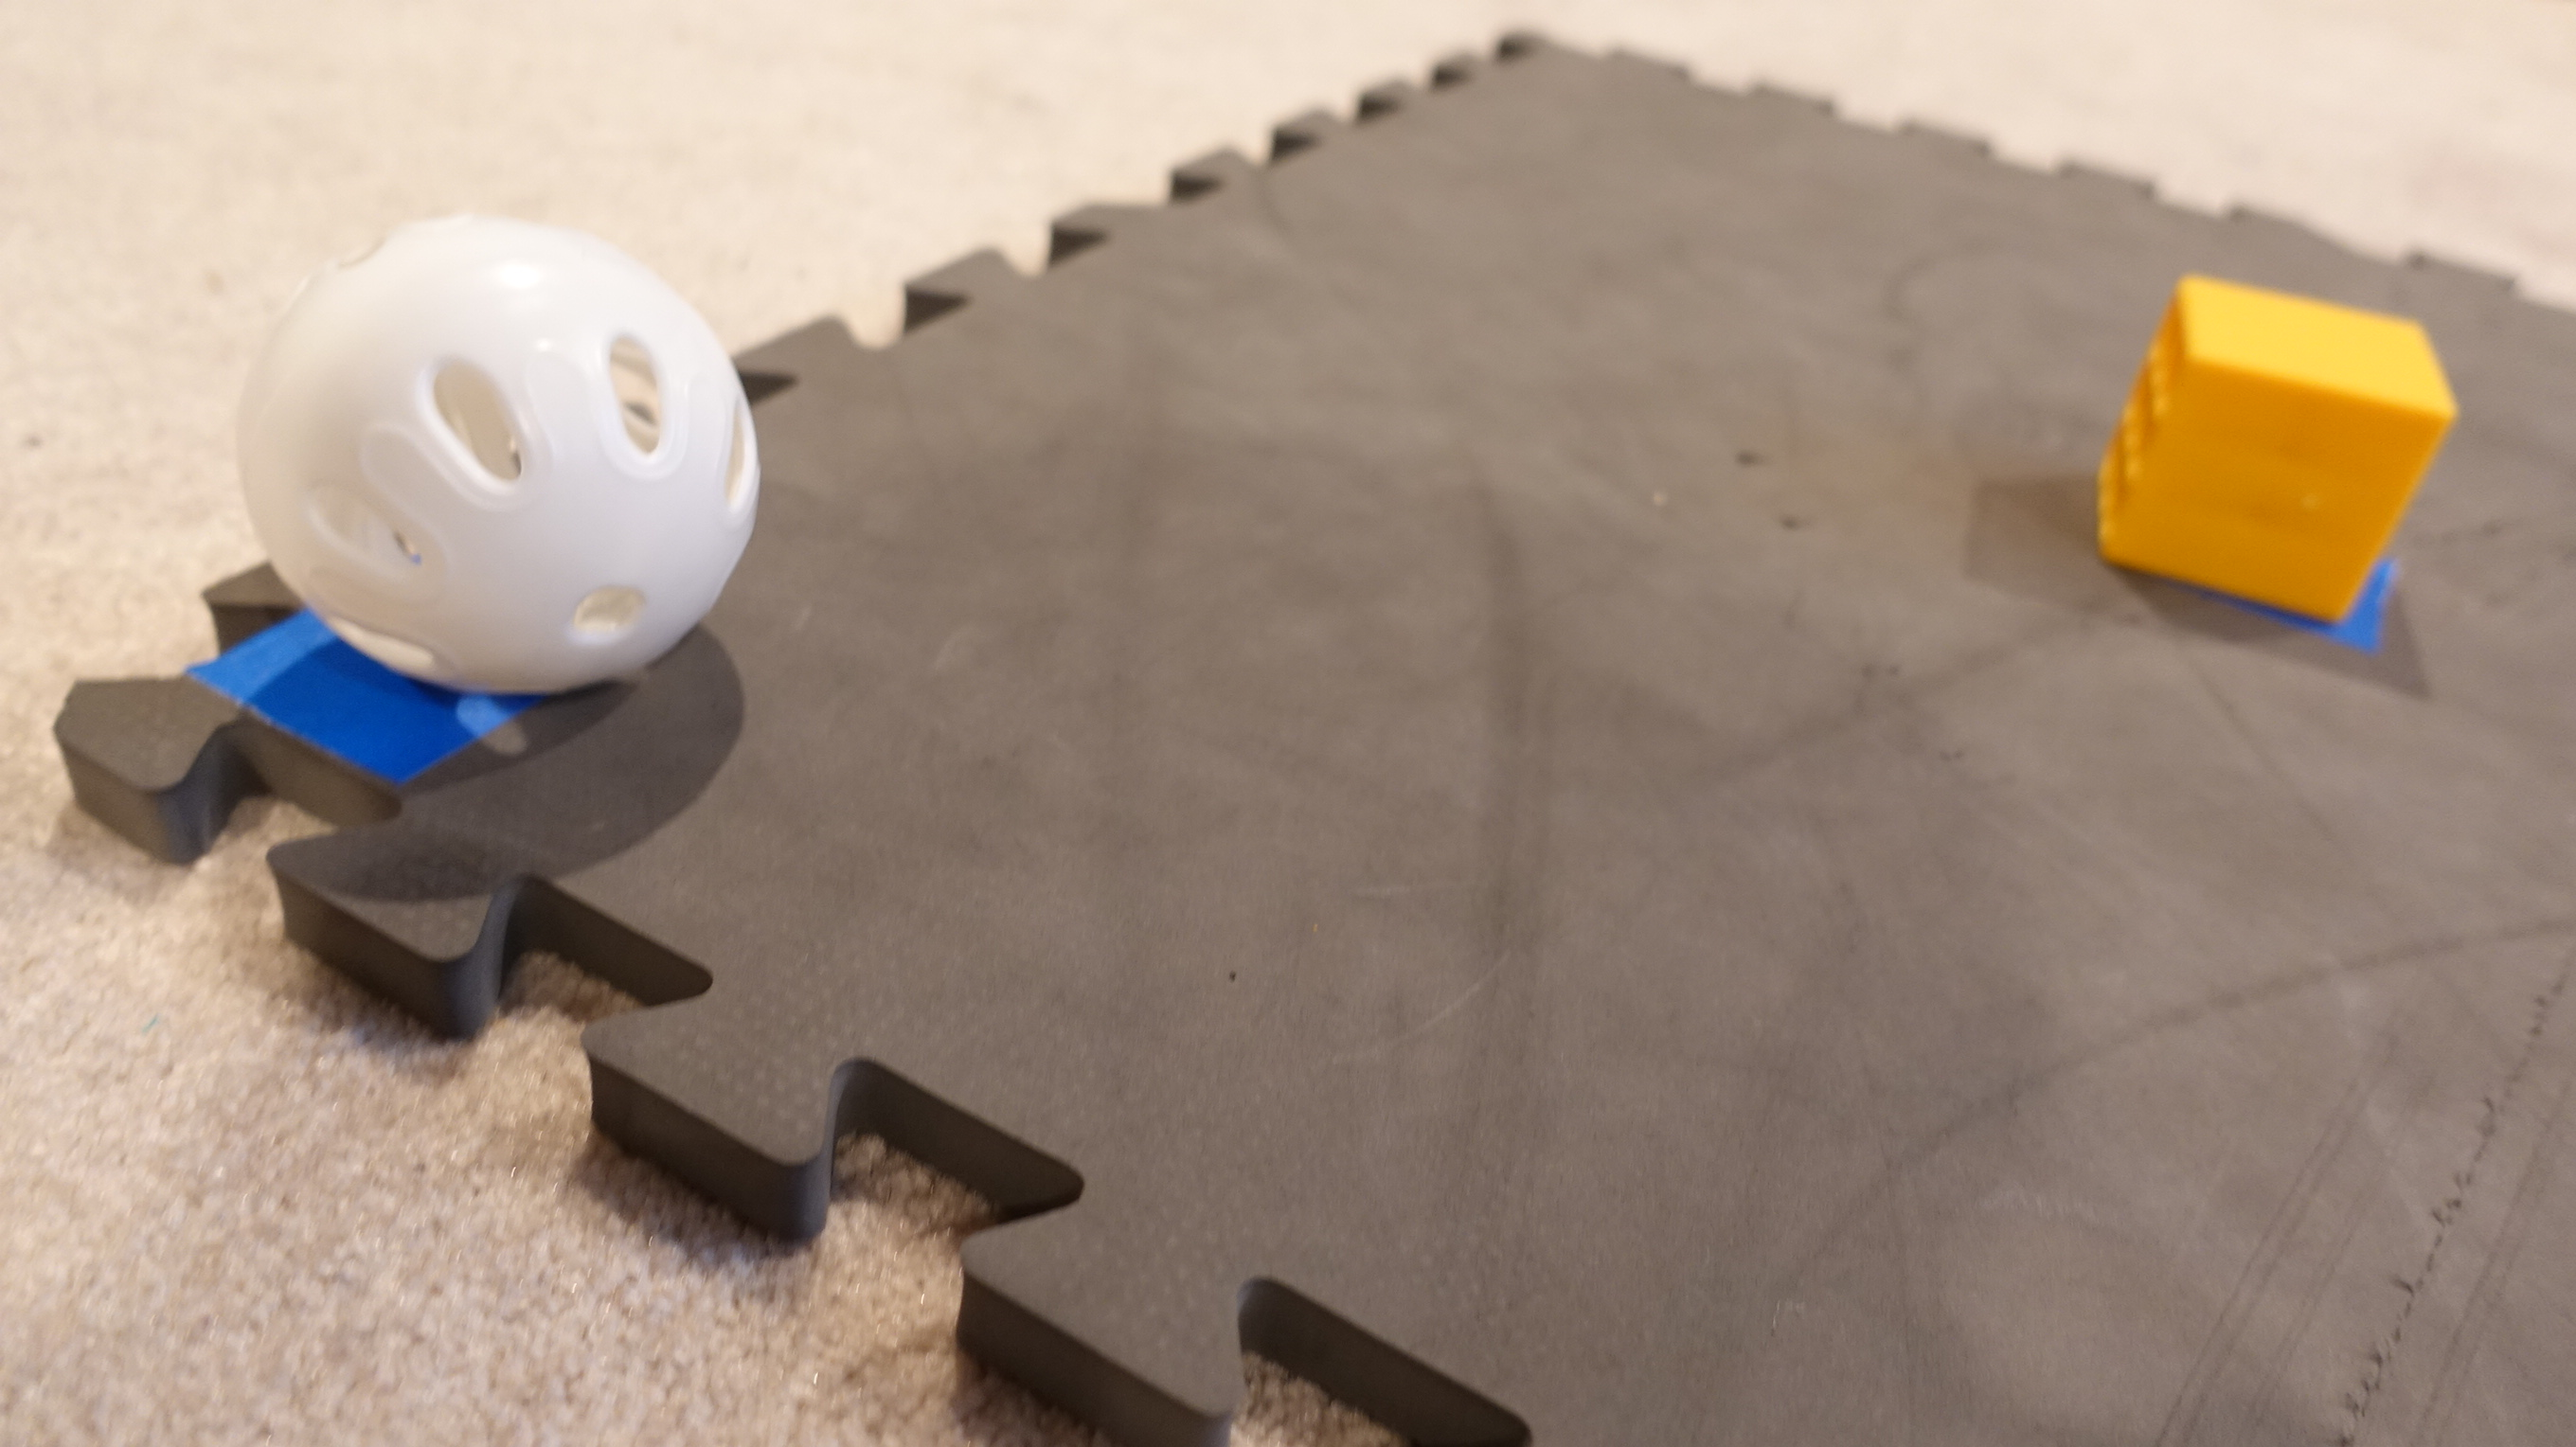gold: (2089, 269, 2457, 628)
silver: (239, 216, 761, 697)
